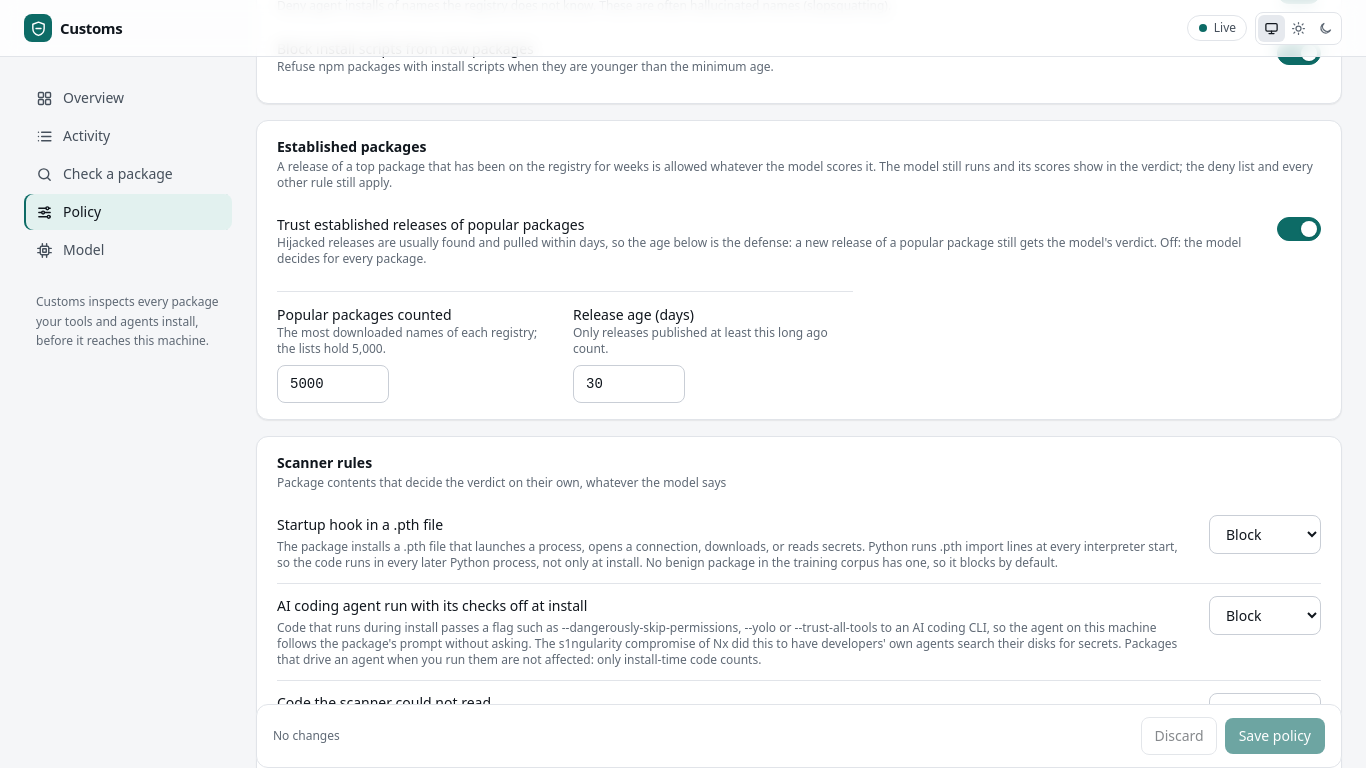
it: Policy page › edits the established-package prior
(page scrolled)
Expected: the switch labelled "Trust established releases of popular packages" is checked, [277,203,1321,279]
Expected: the field labelled "Popular packages counted" holds "5000", [277,365,389,403]
Replace the text in the field labelled "Release age (days)" with "0" at coordinates (629, 384), box [573,365,685,403]
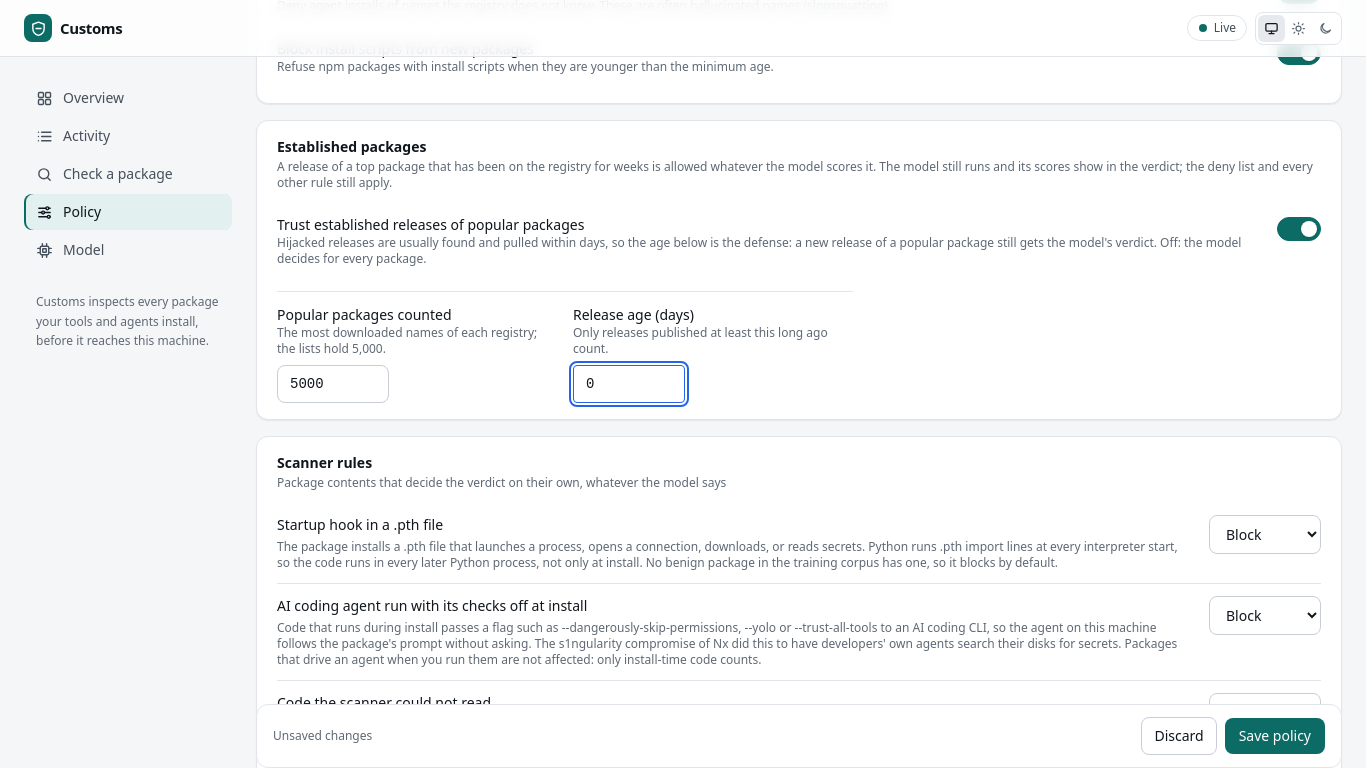
Click the button "Save policy" at coordinates (1275, 736), box [1225,718,1325,754]
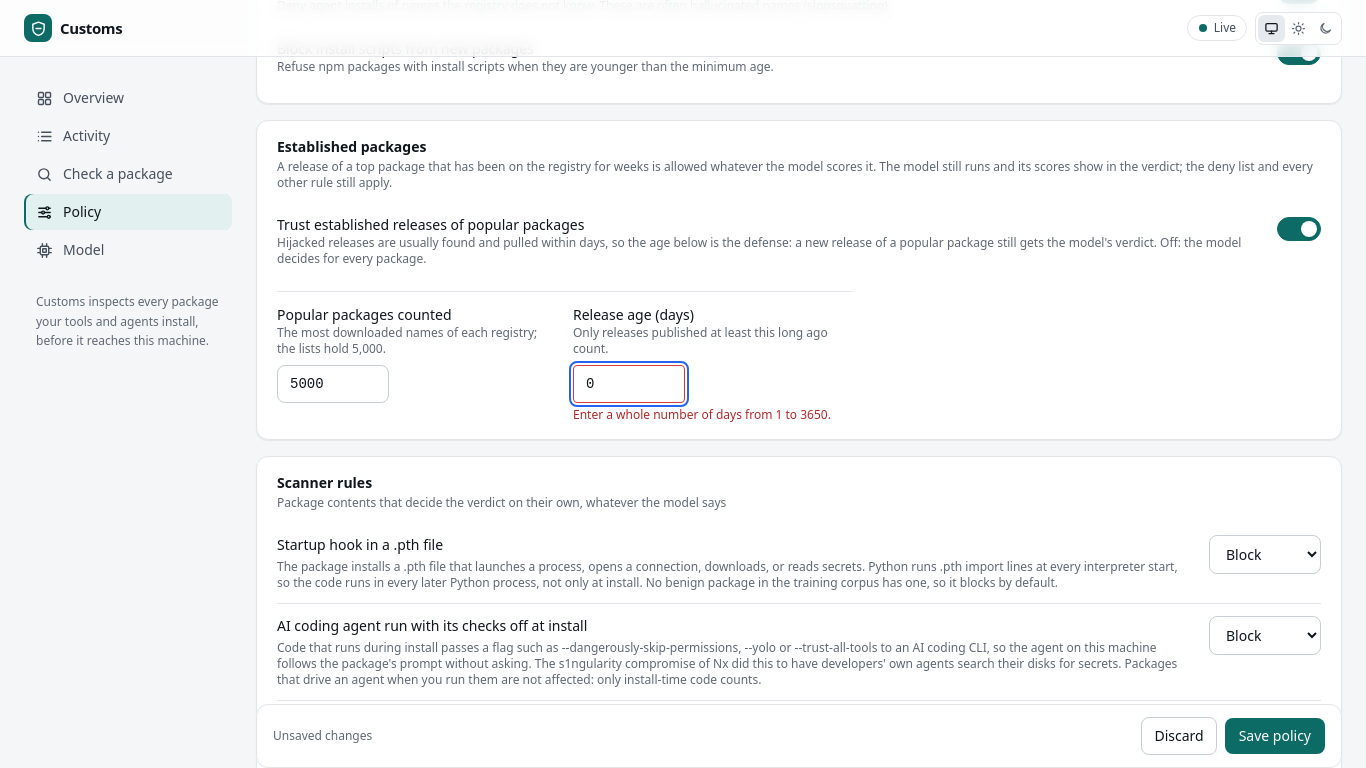
Result: the text "Enter a whole number of days from 1 to 3650." is shown at [573,407,853,423]
Replace the text in the field labelled "Release age (days)" with "60" at coordinates (629, 384), box [573,365,685,403]
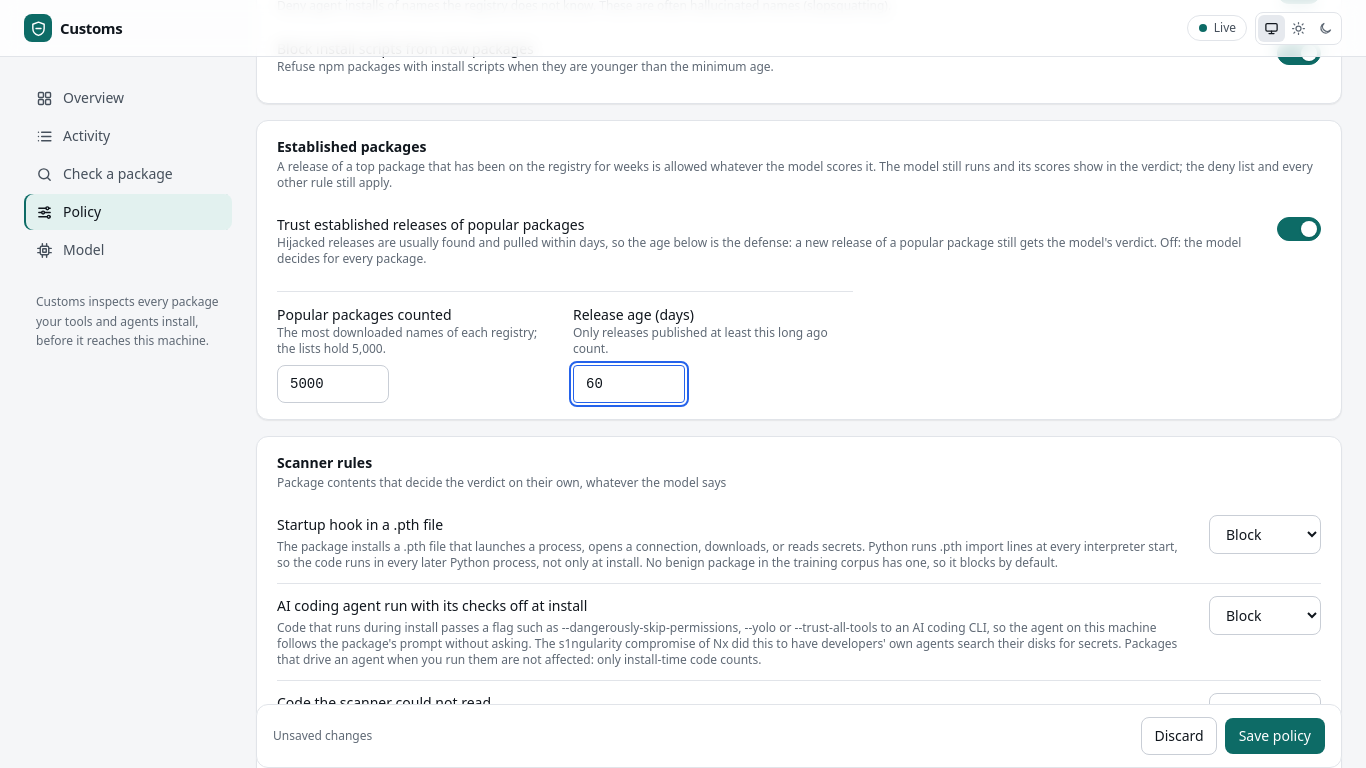
Click the switch labelled "Trust established releases of popular packages" at coordinates (799, 241), box [277,203,1321,279]
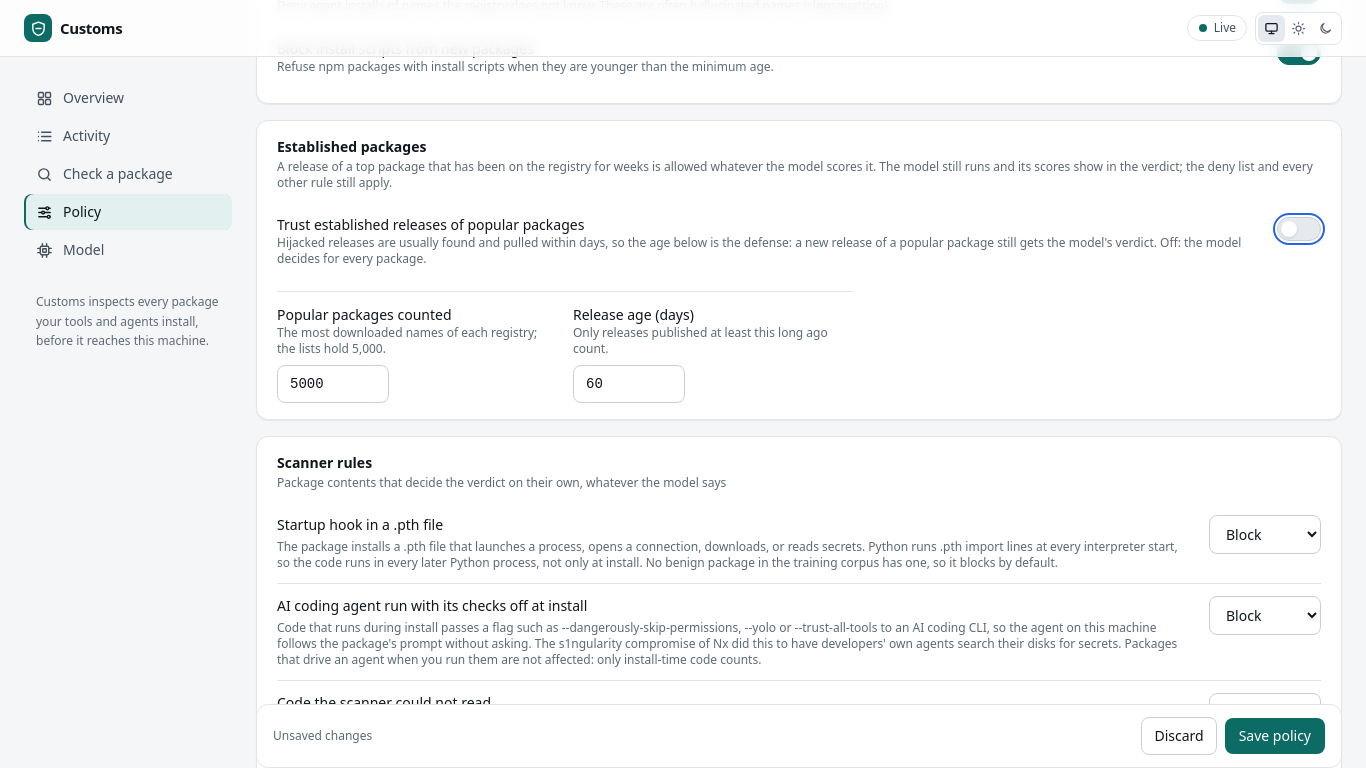
Click the button "Save policy" at coordinates (1275, 736), box [1225,718,1325,754]
(page scrolled)
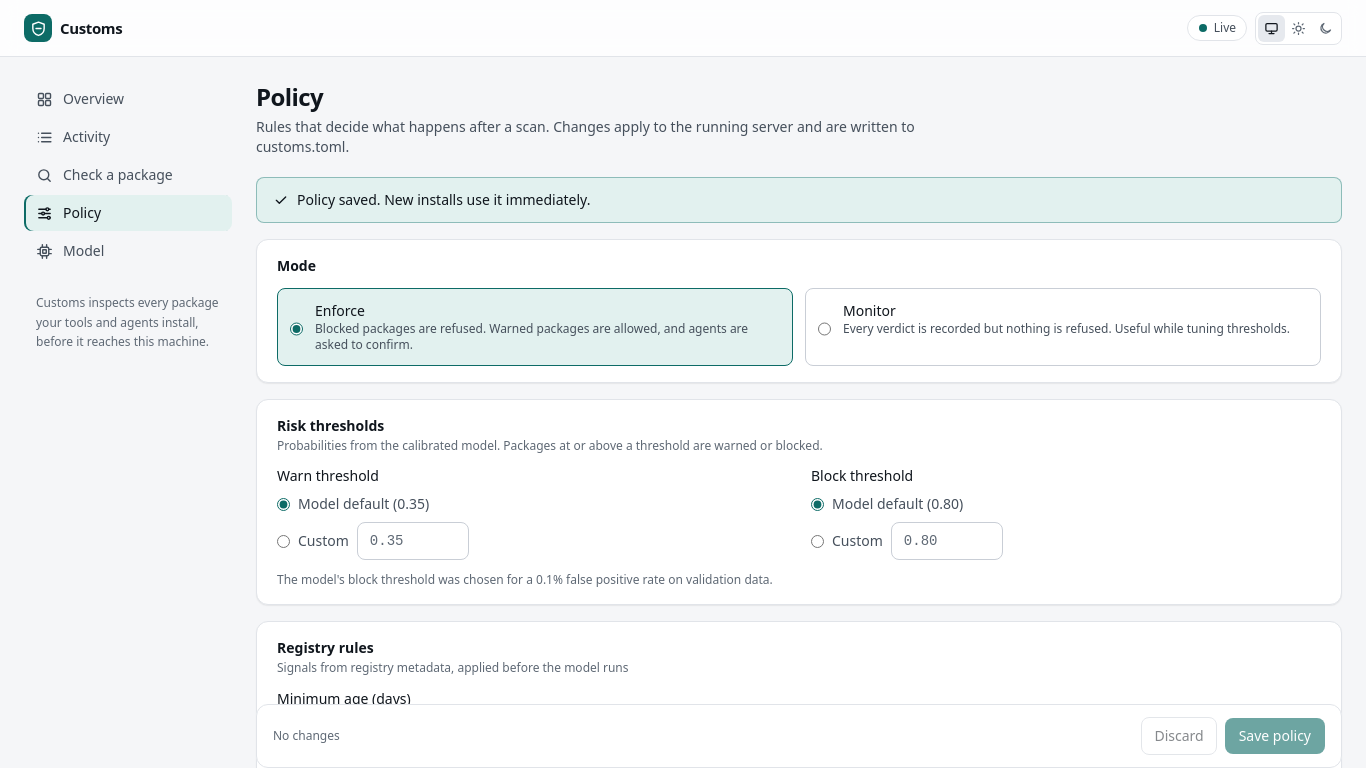
Result: the message "Policy saved. New installs use it immediately." is shown at [256,177,1342,223]
